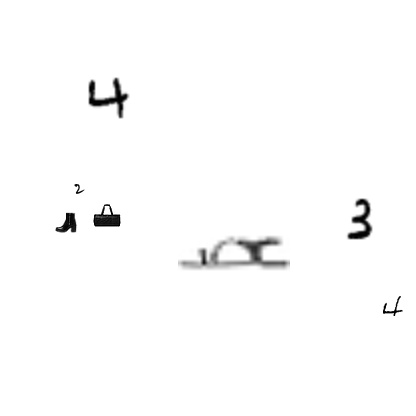2: (71, 182, 85, 196)
3: (332, 193, 388, 249)
4: (79, 68, 135, 124), (378, 294, 406, 322)
Ankle_boot: (55, 212, 77, 234)
Bag: (93, 201, 121, 229)
Sandal: (178, 197, 290, 309)
